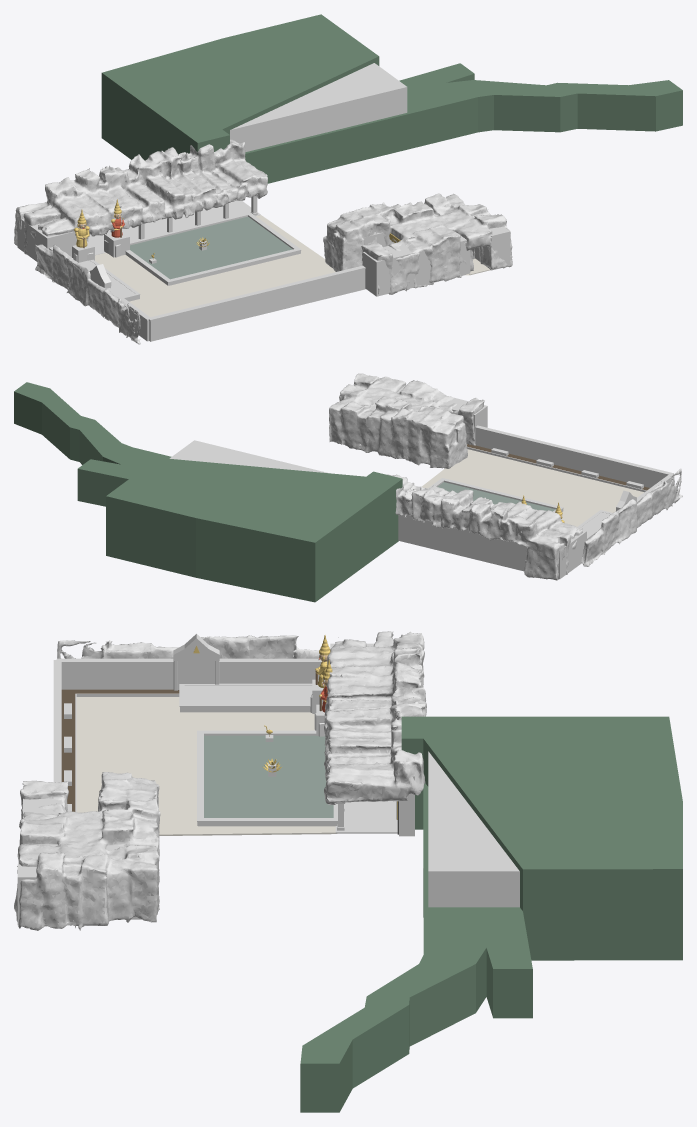
Rendered from WL_lelies.fbx.
3 views of the same model, one above another, from view 1: azimuth 30°, elevation 25°; view 2: azimuth 150°, elevation 25°; view 3: azimuth 270°, elevation 25° (orthographic). The views are drawn at different scales.
Parts seen in each view (by area): view 1: static__MAT_loods_0, COLL_28, static__MAT_grind_0, static__TEX_rots_0, static__TEX_rots_1, static__TEX_rots_4, static__TEX_rots_5, static__TEX_rots_6, static__MAT_water_0, static__TEX_rots_3, static__TEX_rots_2, COLL_19 (+10 smaller); view 2: static__MAT_loods_0, static__MAT_grind_0, static__TEX_rots_5, static__TEX_rots_0, static__TEX_rots_6, static__TEX_rots_2, static__TEX_rots_4, static__TEX_rots_1, COLL_12, static__TEX_stuc_A_0, COLL_19, static__TEX_rots_3 (+7 smaller); view 3: static__MAT_loods_0, static__MAT_grind_0, static__TEX_rots_5, static__MAT_water_0, COLL_28, static__TEX_rots_6, static__TEX_rots_1, static__TEX_rots_4, static__TEX_stuc_R_0, static__TEX_rots_0, static__TEX_stuc_A_0, static__TEX_rots_7 (+8 smaller).
Boxes of the visible parts, left/top/right/bottom form: static__MAT_loods_0: left=101, top=14, right=682, bottom=183; COLL_28: left=230, top=63, right=407, bottom=152; static__MAT_grind_0: left=95, top=215, right=490, bottom=317; static__TEX_rots_0: left=14, top=167, right=164, bottom=344; static__TEX_rots_1: left=62, top=140, right=267, bottom=344; static__TEX_rots_4: left=188, top=139, right=510, bottom=294; static__TEX_rots_5: left=323, top=194, right=512, bottom=294; static__TEX_rots_6: left=335, top=201, right=512, bottom=284; static__MAT_water_0: left=130, top=216, right=292, bottom=279; static__TEX_rots_3: left=99, top=147, right=228, bottom=227; static__TEX_rots_2: left=14, top=169, right=133, bottom=291; COLL_19: left=149, top=269, right=365, bottom=340; static__MAT_loods_0: left=14, top=382, right=402, bottom=602; static__MAT_grind_0: left=421, top=449, right=643, bottom=526; static__TEX_rots_5: left=329, top=373, right=484, bottom=468; static__TEX_rots_0: left=457, top=469, right=682, bottom=579; static__TEX_rots_6: left=354, top=373, right=459, bottom=467; static__TEX_rots_2: left=485, top=494, right=646, bottom=580; static__TEX_rots_4: left=349, top=381, right=484, bottom=515; static__TEX_rots_1: left=387, top=468, right=682, bottom=545; COLL_12: left=398, top=514, right=527, bottom=571; static__TEX_stuc_A_0: left=428, top=425, right=673, bottom=538; COLL_19: left=475, top=428, right=665, bottom=487; static__TEX_rots_3: left=401, top=486, right=510, bottom=537; static__MAT_loods_0: left=300, top=716, right=682, bottom=1112; static__MAT_grind_0: left=76, top=697, right=336, bottom=835; static__TEX_rots_5: left=14, top=772, right=160, bottom=930; static__MAT_water_0: left=204, top=735, right=333, bottom=817; COLL_28: left=428, top=751, right=519, bottom=907; static__TEX_rots_6: left=14, top=779, right=160, bottom=928; static__TEX_rots_1: left=57, top=635, right=426, bottom=804; static__TEX_rots_4: left=19, top=726, right=425, bottom=930; static__TEX_stuc_R_0: left=61, top=638, right=397, bottom=833; static__TEX_rots_0: left=57, top=631, right=424, bottom=723; static__TEX_stuc_A_0: left=53, top=634, right=397, bottom=832; static__TEX_rots_7: left=63, top=843, right=159, bottom=928.
Bounding box in the file's own units: 76.99 × 9.6 × 50.53.
